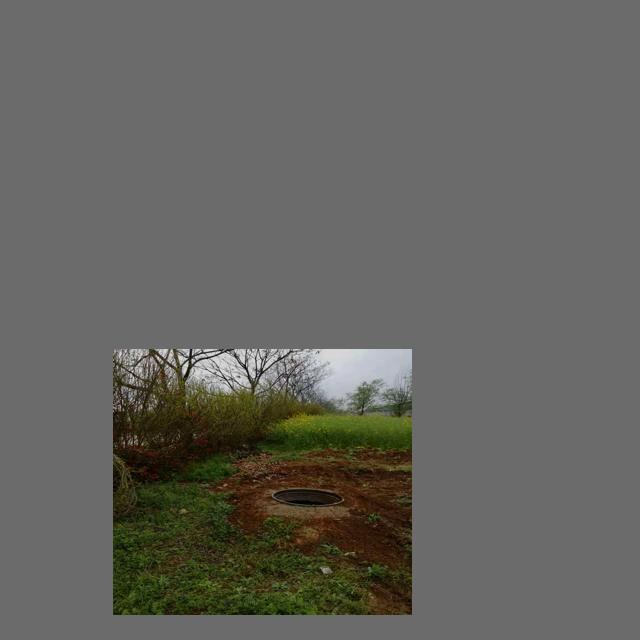lose: (262, 485, 343, 508)
